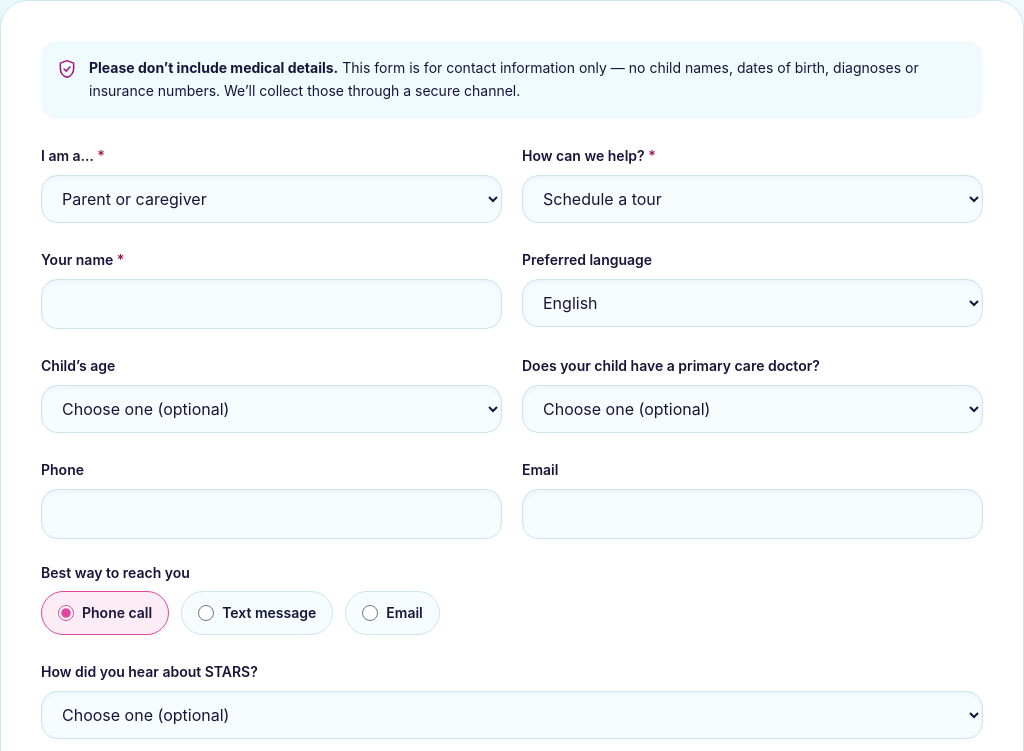
Test case: <InquiryForm /> › surfaces server errors with the phone fallback
The width and height of the screenshot is (1024, 751).
Type "Jordan Parker" into the field labelled "Your name *".
click(272, 304); type("Jordan Parker")  # box [41, 278, 502, 328]
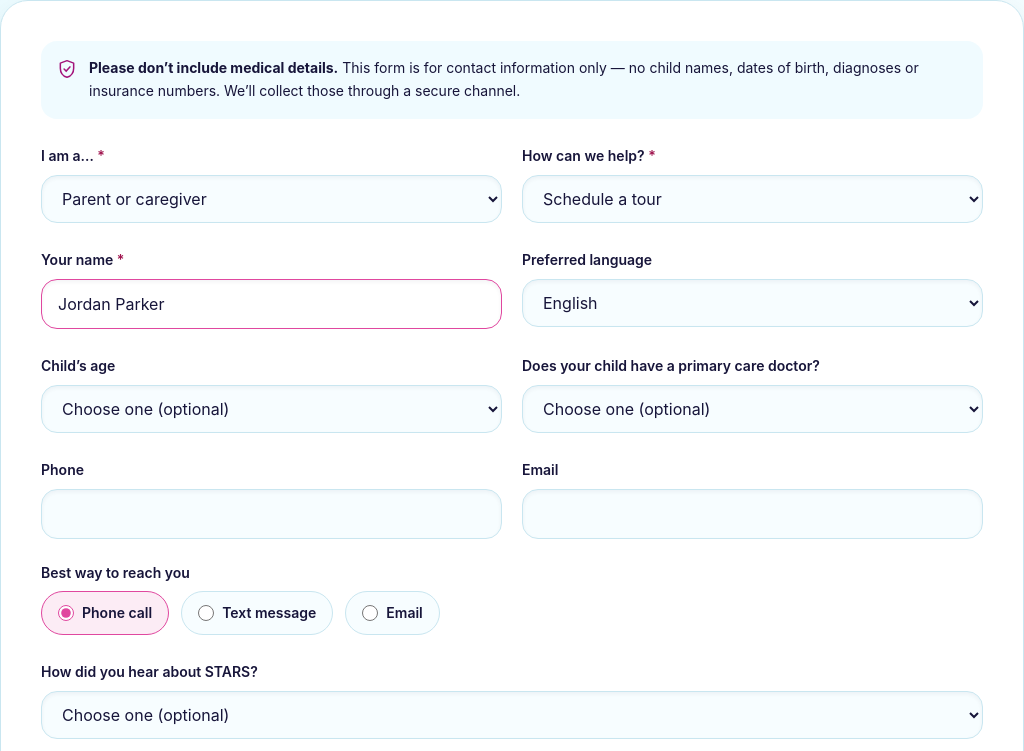
Type "870-555-0134" into the field labelled "Phone".
click(272, 514); type("870-555-0134")  # box [41, 488, 502, 538]
(page scrolled)
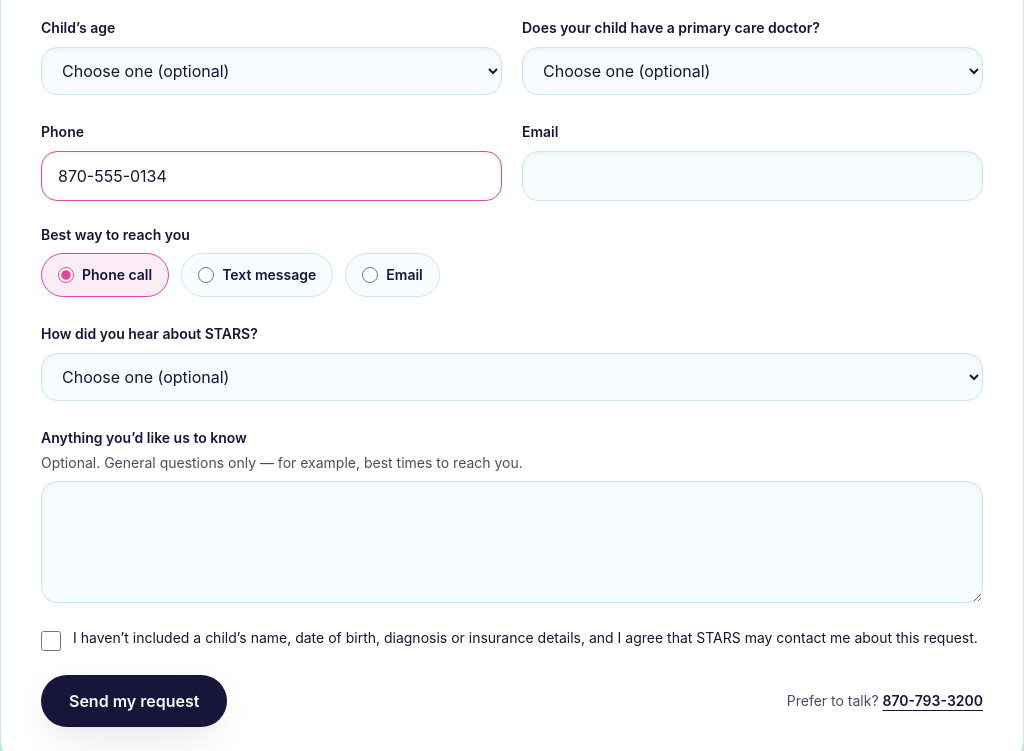
Click the checkbox.
click(51, 640)  # box [41, 630, 61, 650]
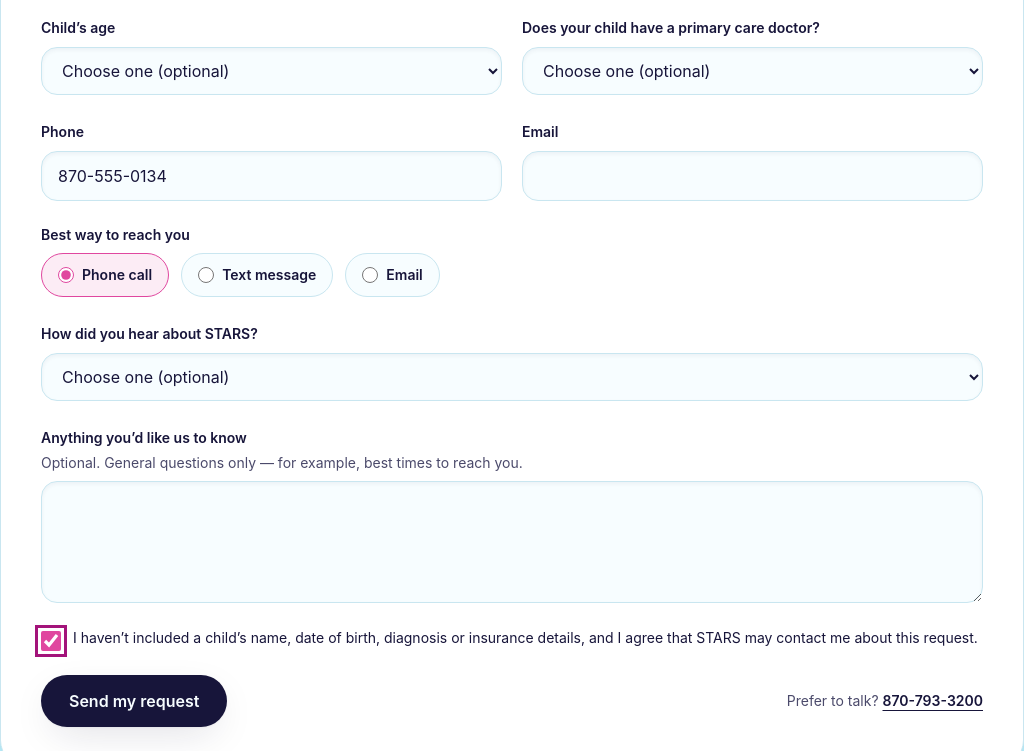
Click the button "Send my request".
click(134, 700)  # box [41, 674, 227, 726]
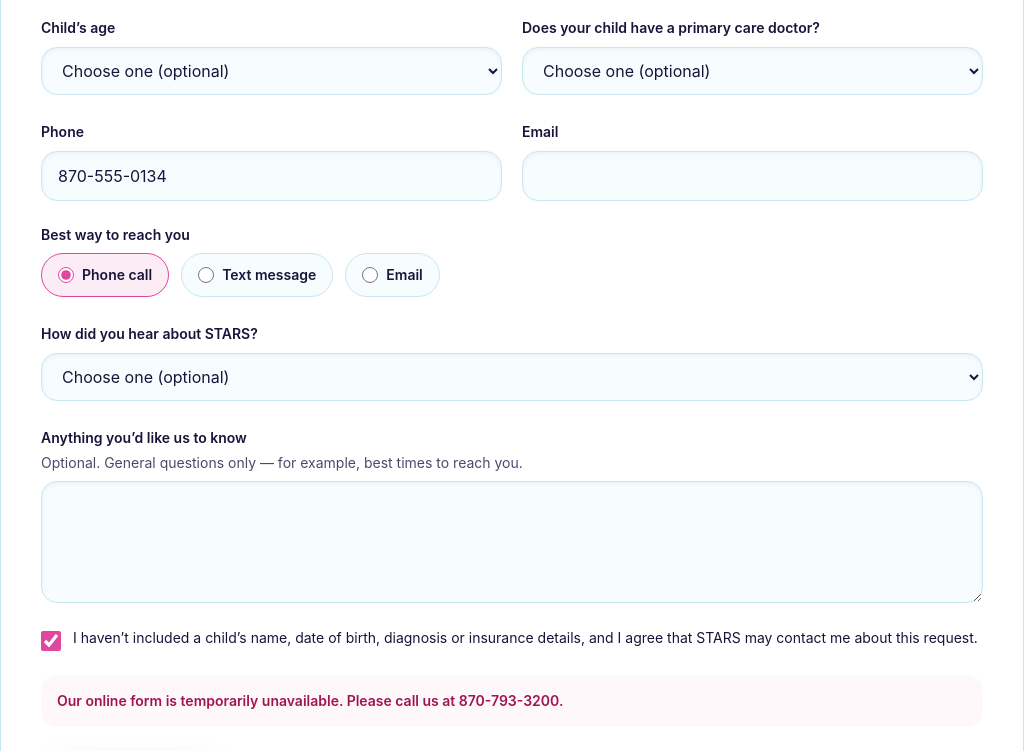
Expected: the message shows "870-793-3200", [57, 692, 563, 708]
